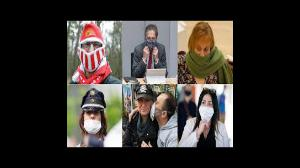mask_weared_incorrect: (81, 37, 102, 67), (194, 45, 210, 69), (85, 111, 100, 131)
with_mask: (151, 97, 161, 122), (201, 99, 213, 118), (146, 35, 158, 48)
without_mask: (138, 99, 149, 116)
